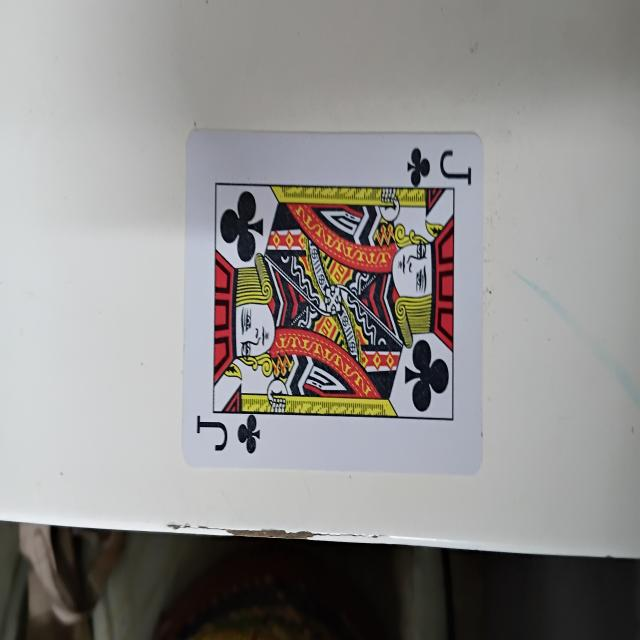JC: (179, 130, 482, 477)
